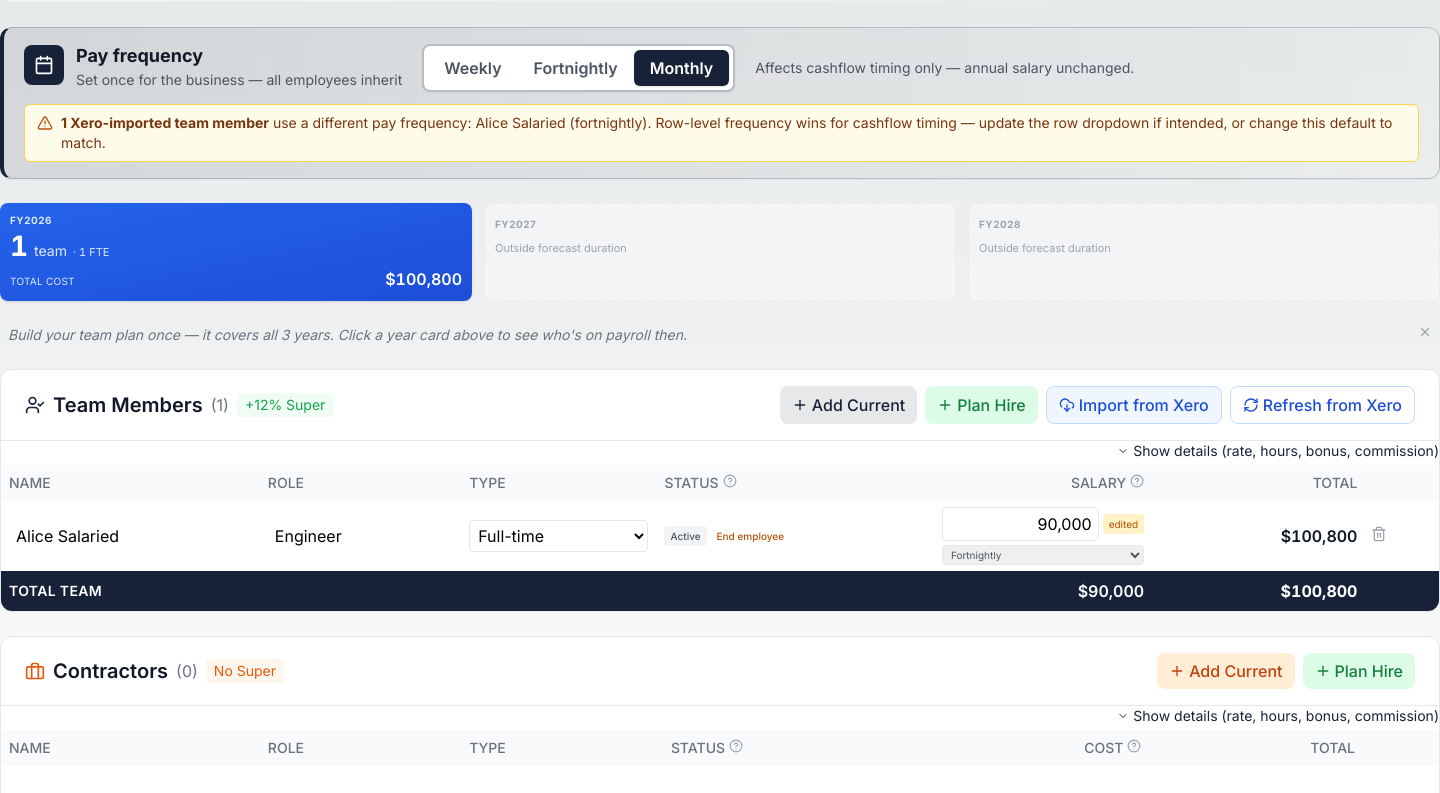
Test case: Phase 52-02 — Refresh from Xero / reconciliation › Test 5: Conflict path — operator overrode salary AND Xero changed it
(page scrolled)
Click the button "Refresh from Xero" at (1322, 405), box [1230,386,1415,424]
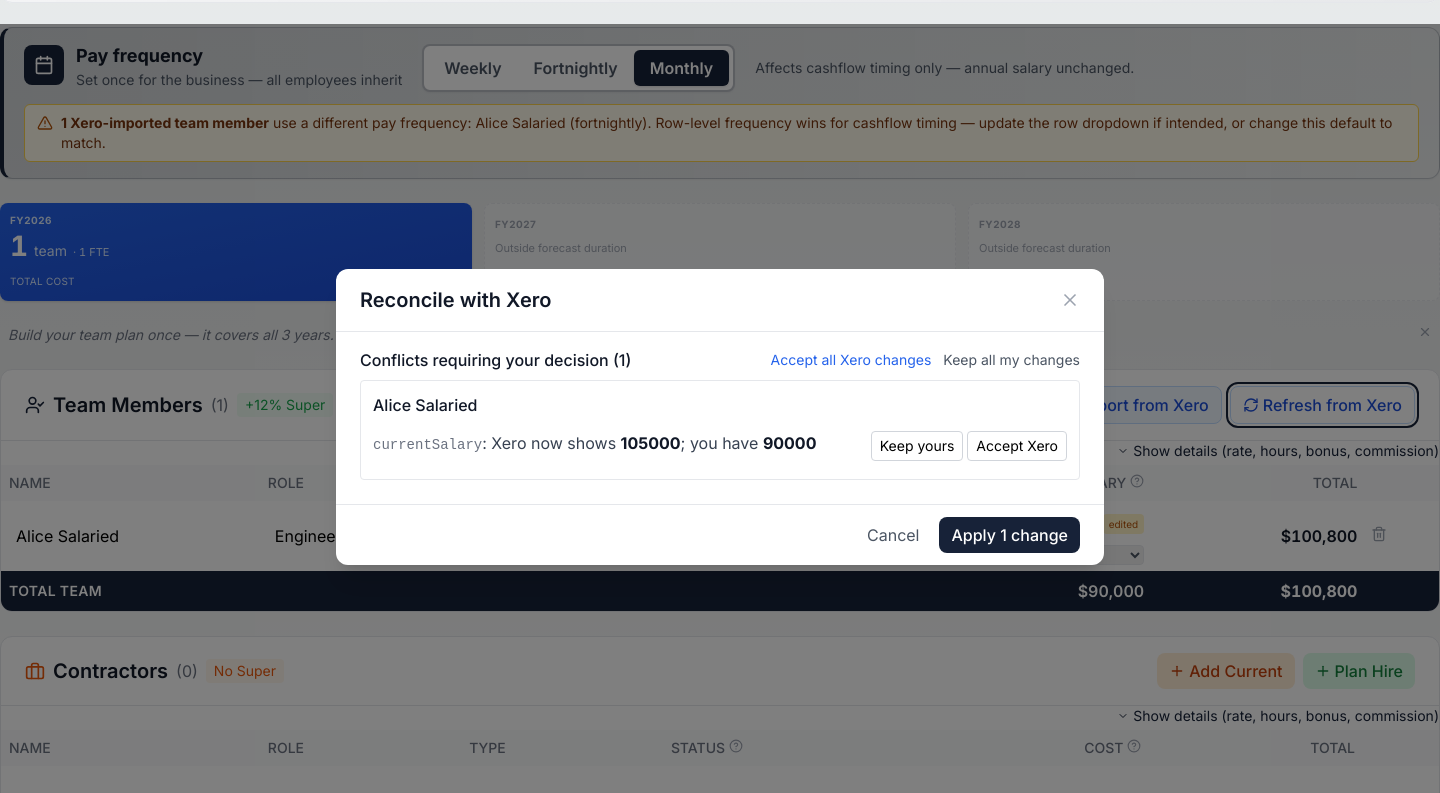
expect the heading "Conflicts requiring your decision (1)" is shown: met, box [360,348,631,372]
expect the text "105000" is shown: met, box [621,433,681,453]
expect the text "90000" is shown: met, box [763,433,816,453]
